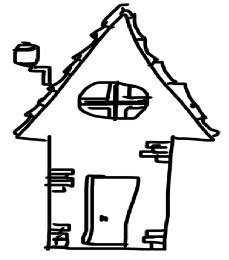big_house: (0, 0, 227, 259)
chimney: (6, 30, 58, 94)
closed_window: (74, 79, 153, 125)
door: (79, 166, 144, 251)
roof: (5, 3, 221, 145)
wall: (39, 127, 178, 253)
